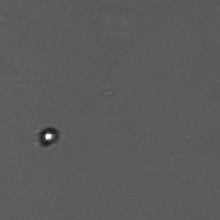Living Cell: (30, 121, 67, 153)
